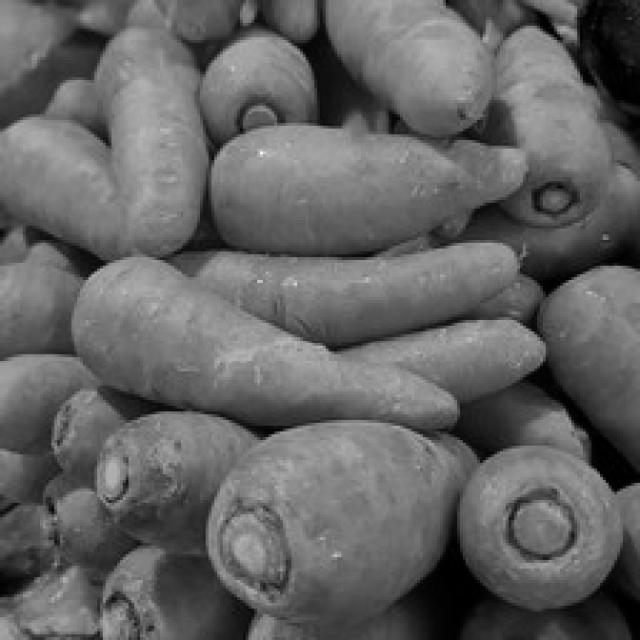Fresh_Carrot: (132, 448, 625, 618), (68, 41, 514, 200), (82, 254, 461, 436)
